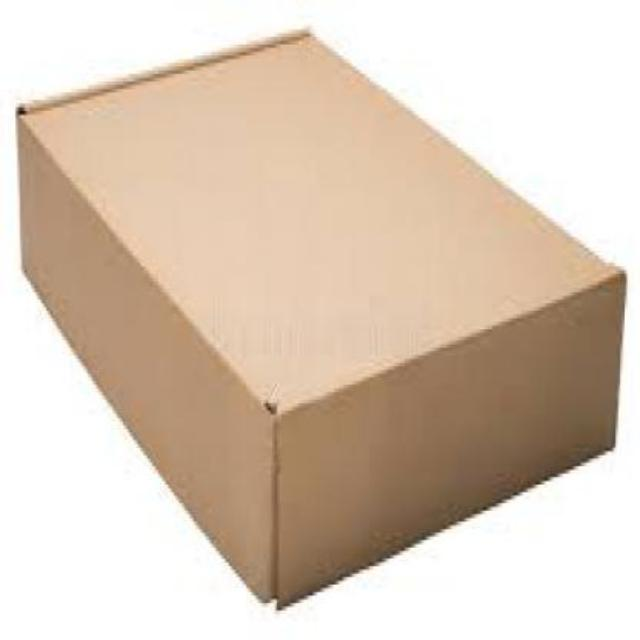cardboard_box: (7, 28, 617, 610)
